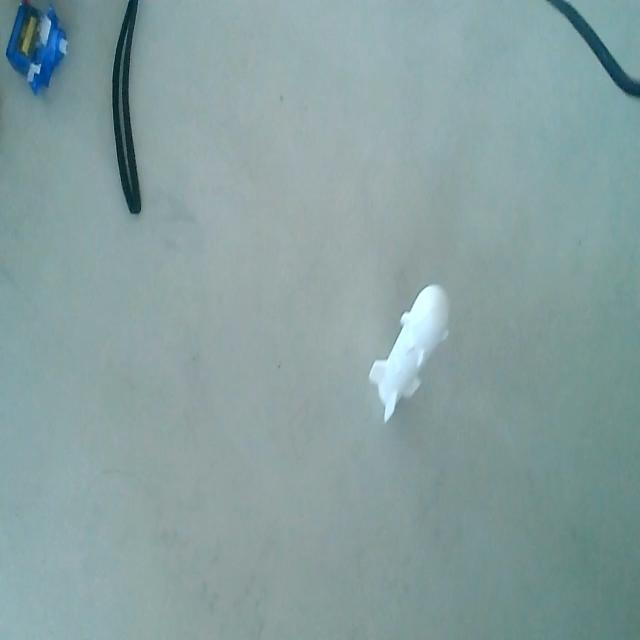Rocket: (364, 276, 452, 434)
